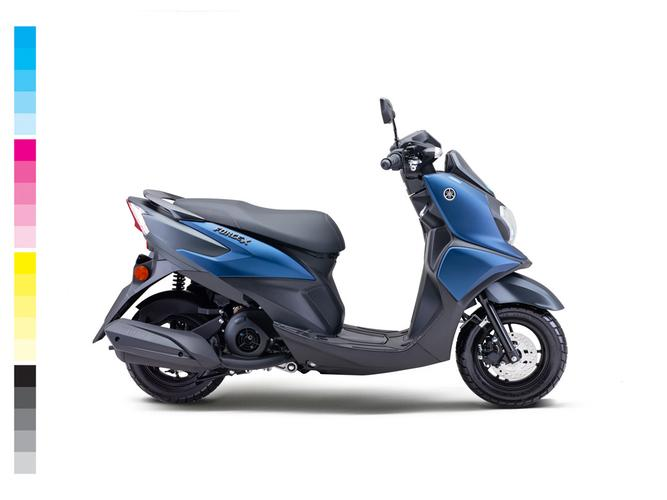摩托车: (84, 94, 574, 421)
